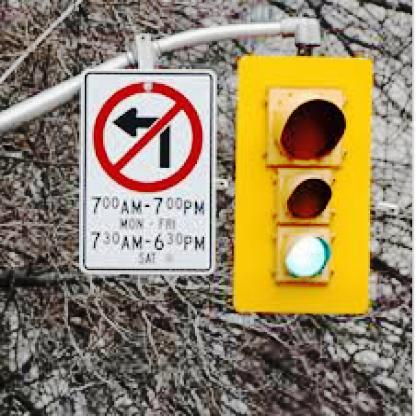No left turn: (88, 78, 200, 192)
